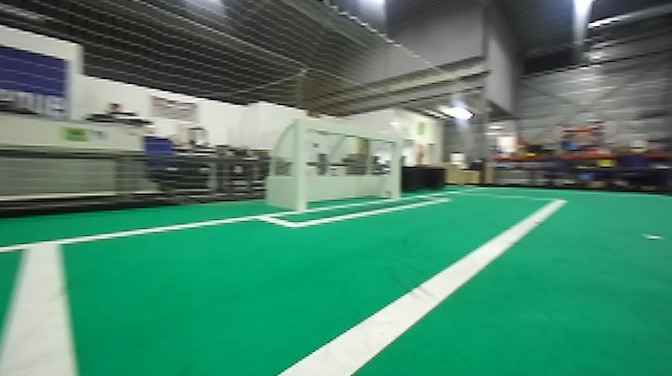goalpost: (289, 116, 307, 214), (383, 130, 398, 201)
